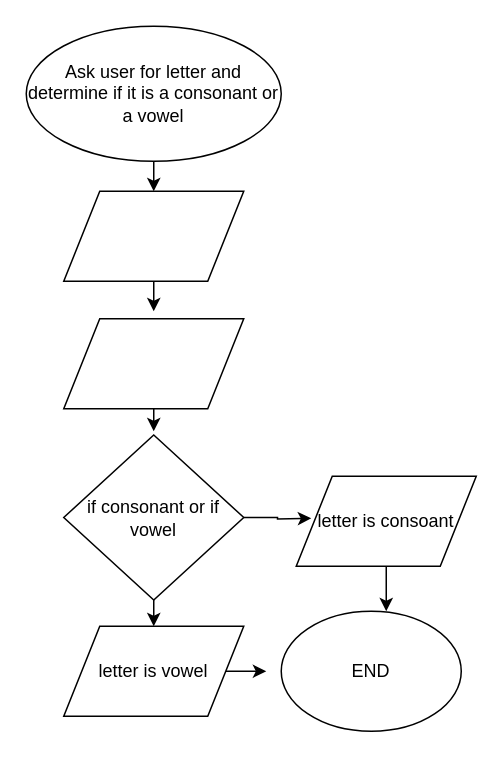
Some shapes in this 503 by 758 pixel diagram are drawn without their labels. Here are the shapes that lost their labels. From the top down, the centre of each, then its label:
At point (153, 235): "Ask user for letter".
At point (153, 363): "Get letter from user".
